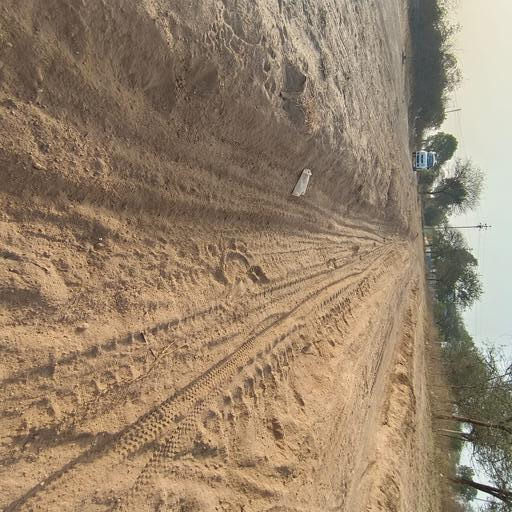vehicle_track: (0, 82, 394, 512)
